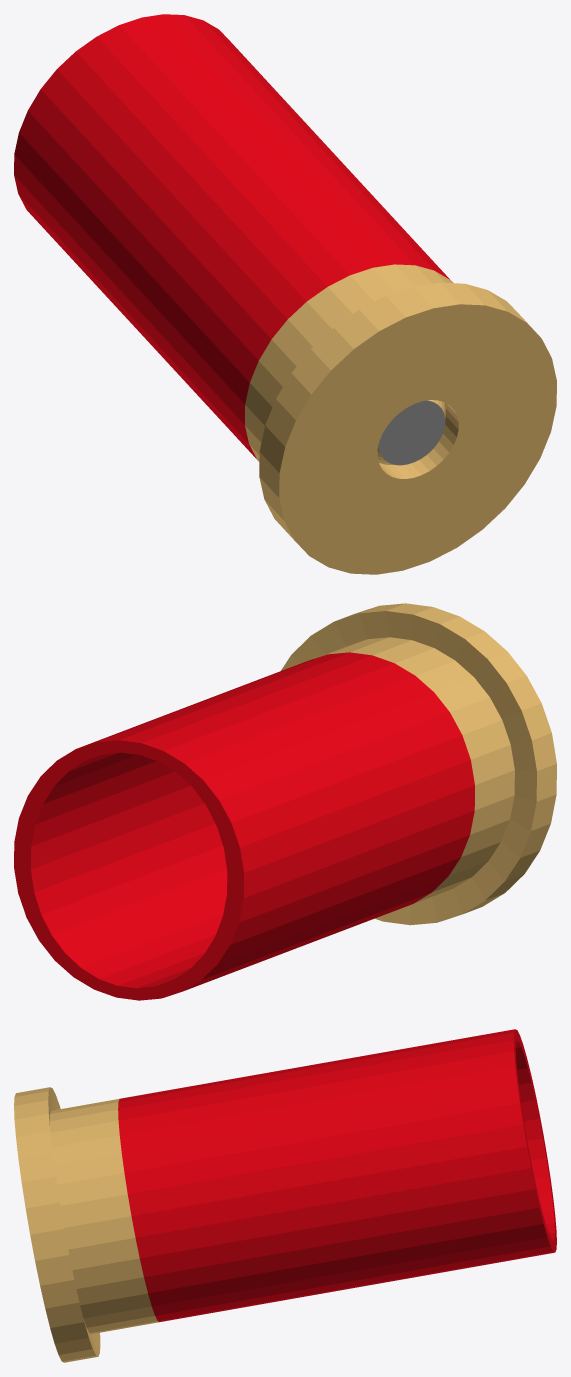
File: ShotGunShell.fbx
The picture shows the model from 3 angles, top to bottom: view 1: azimuth 30°, elevation 25°; view 2: azimuth 150°, elevation 25°; view 3: azimuth 270°, elevation 25°; orthographic projection. The views are drawn at different scales.
Parts seen in each view (by area): view 1: RedPart, Gold part, MetalicPart; view 2: RedPart, Gold part; view 3: RedPart, Gold part.
Part boxes in pixels (x1=…): RedPart: x1=14, y1=14, x2=452, y2=458; Gold part: x1=245, y1=264, x2=556, y2=574; MetalicPart: x1=378, y1=400, x2=445, y2=465; RedPart: x1=14, y1=652, x2=474, y2=1000; Gold part: x1=281, y1=603, x2=556, y2=925; RedPart: x1=118, y1=1029, x2=556, y2=1321; Gold part: x1=14, y1=1087, x2=159, y2=1362.
Bounding box in the file's own units: 241 × 301 × 478.
